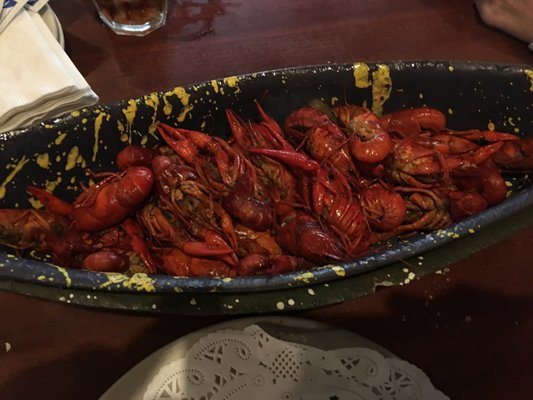pizza: (91, 0, 169, 36)
